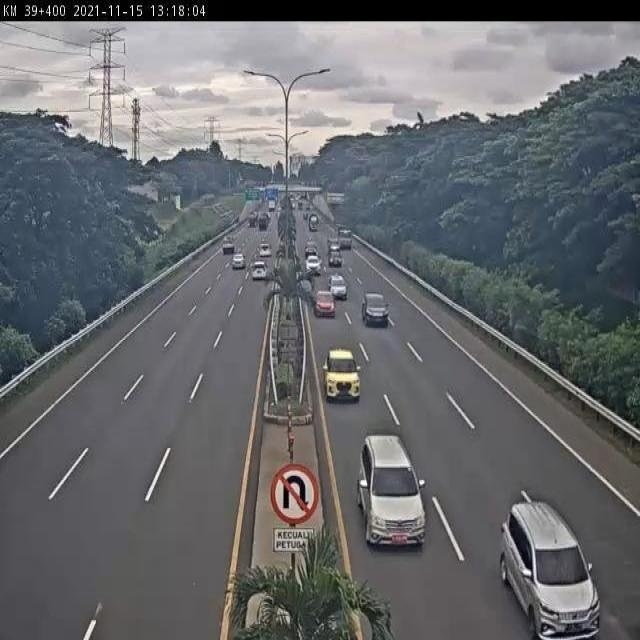Car: (495, 498, 605, 640), (356, 433, 424, 548), (322, 346, 362, 403), (361, 292, 390, 328), (313, 290, 337, 318), (328, 274, 348, 299), (252, 260, 268, 280), (232, 252, 245, 270)
Truck: (331, 222, 354, 250), (307, 214, 319, 234)
